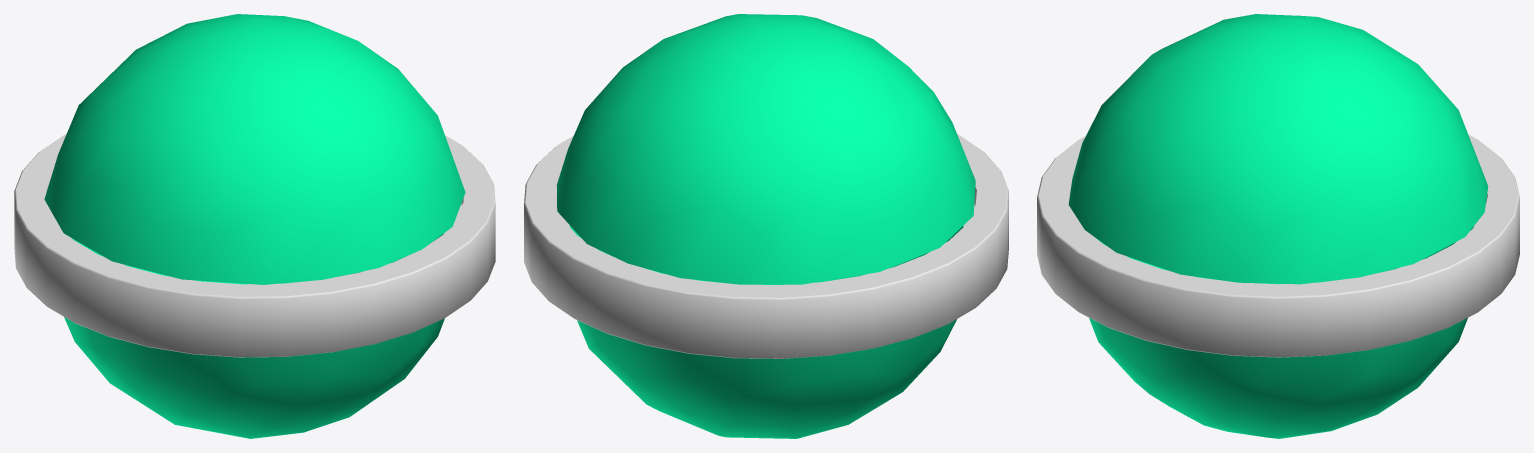
The model's file is Ball2fbx.fbx.
The picture shows the model from 3 angles, left to right: view 1: azimuth 30°, elevation 25°; view 2: azimuth 150°, elevation 25°; view 3: azimuth 270°, elevation 25°; orthographic projection.
Visible parts, largest first — view 1: Sp; view 2: Sp; view 3: Sp.
Part boxes in pixels (<box>): Sp: <box>14,14,495,438</box>; Sp: <box>524,14,1008,438</box>; Sp: <box>1037,14,1519,438</box>.
Size of the model in its own units: 2.21 by 1.94 by 2.21.
